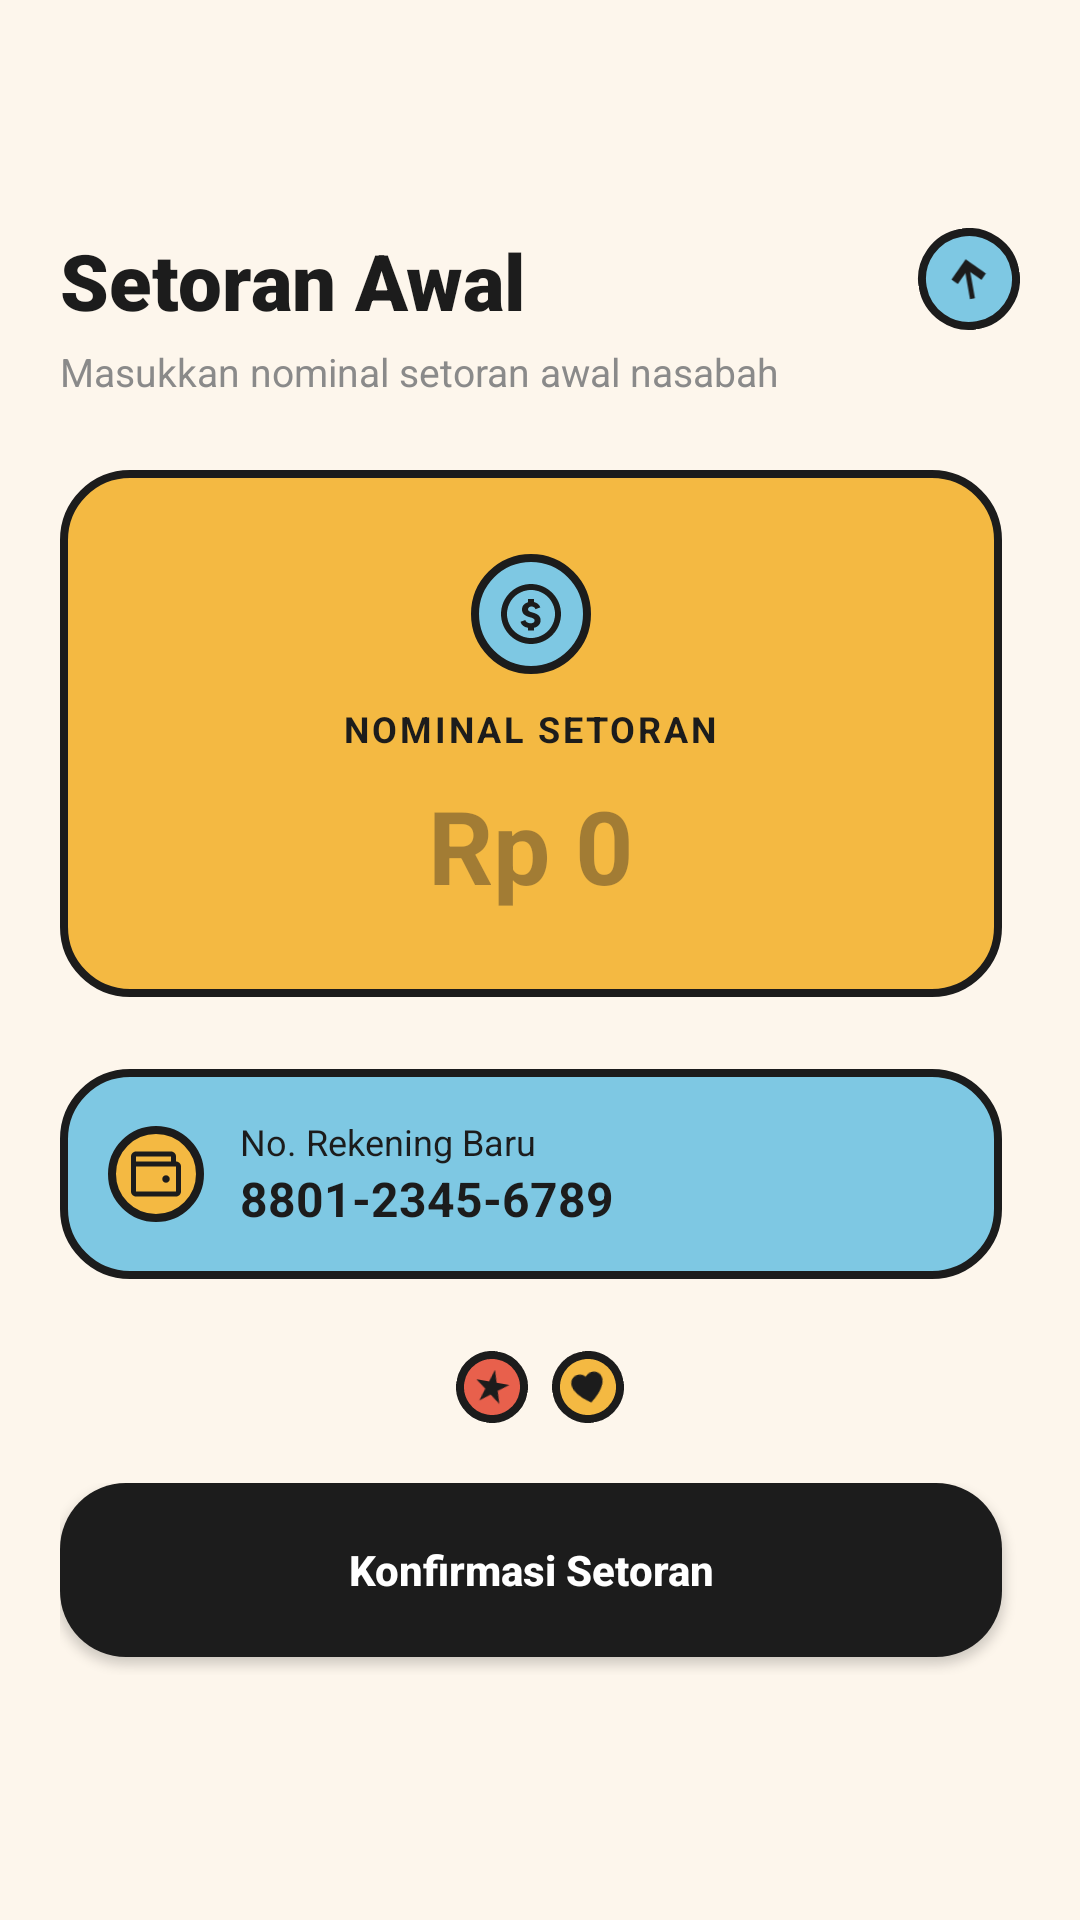

Point at icon controls on the screen. Image size 1080w x 1920h, points as point (x, y).
coin: point (531, 614)
wallet: point (156, 1174)
